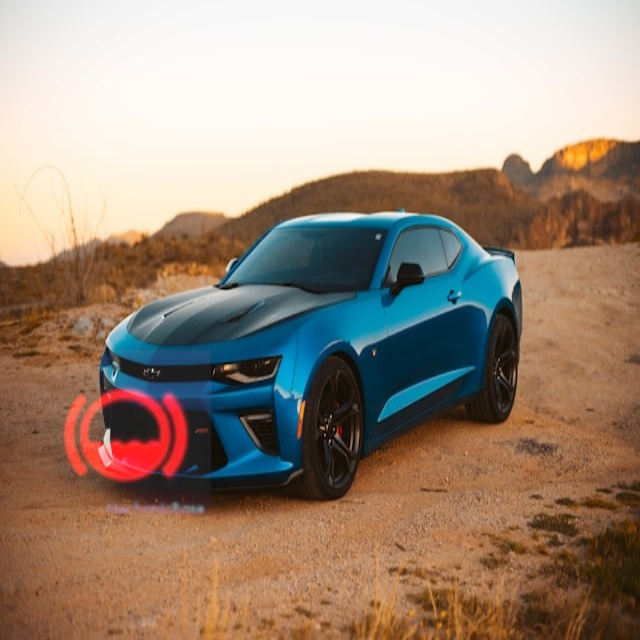symbol: (38, 350, 211, 523)
